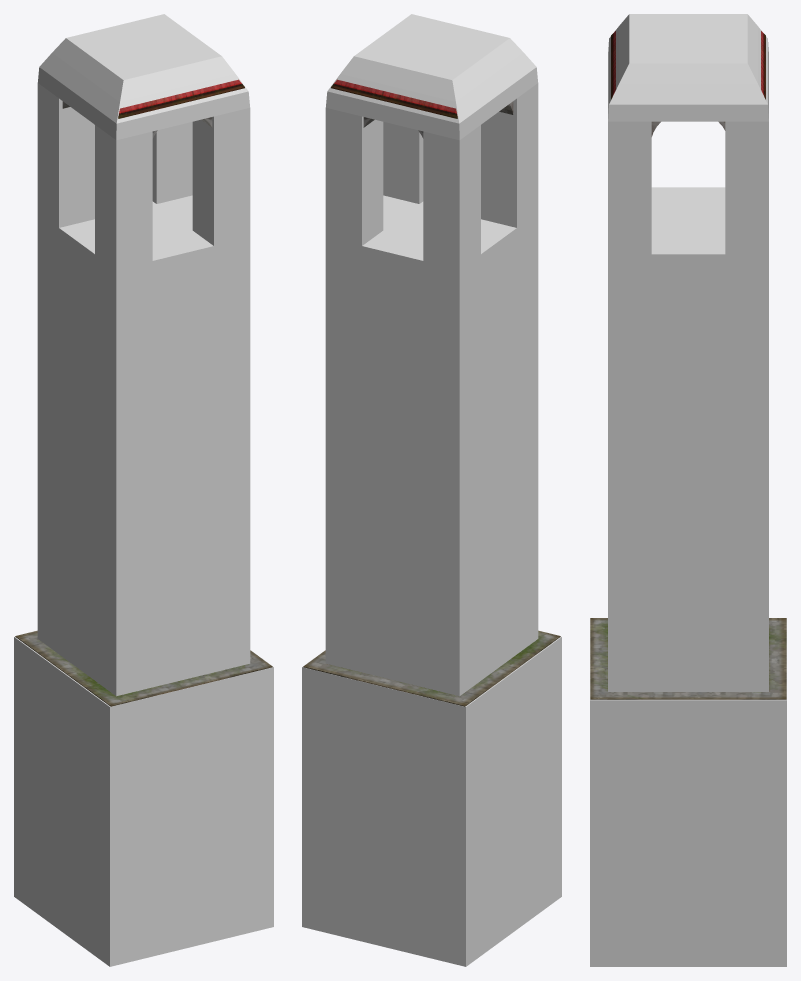
File: Tower_1_Col.fbx
The picture shows the model from 3 angles, left to right: view 1: azimuth 30°, elevation 25°; view 2: azimuth 150°, elevation 25°; view 3: azimuth 270°, elevation 25°; orthographic projection. The views are drawn at different scales.
Visible parts, largest first — view 1: Tower_Col, Tower; view 2: Tower_Col, Tower; view 3: Tower_Col, Tower.
Boxes of the visible parts, x1,y1,x2,y2 form: Tower_Col: (14,14,273,966); Tower: (15,79,272,706); Tower_Col: (302,14,561,966); Tower: (303,79,560,706); Tower_Col: (590,14,786,966); Tower: (590,31,786,699).
Bounding box in the file's own units: 132 × 666 × 134.
